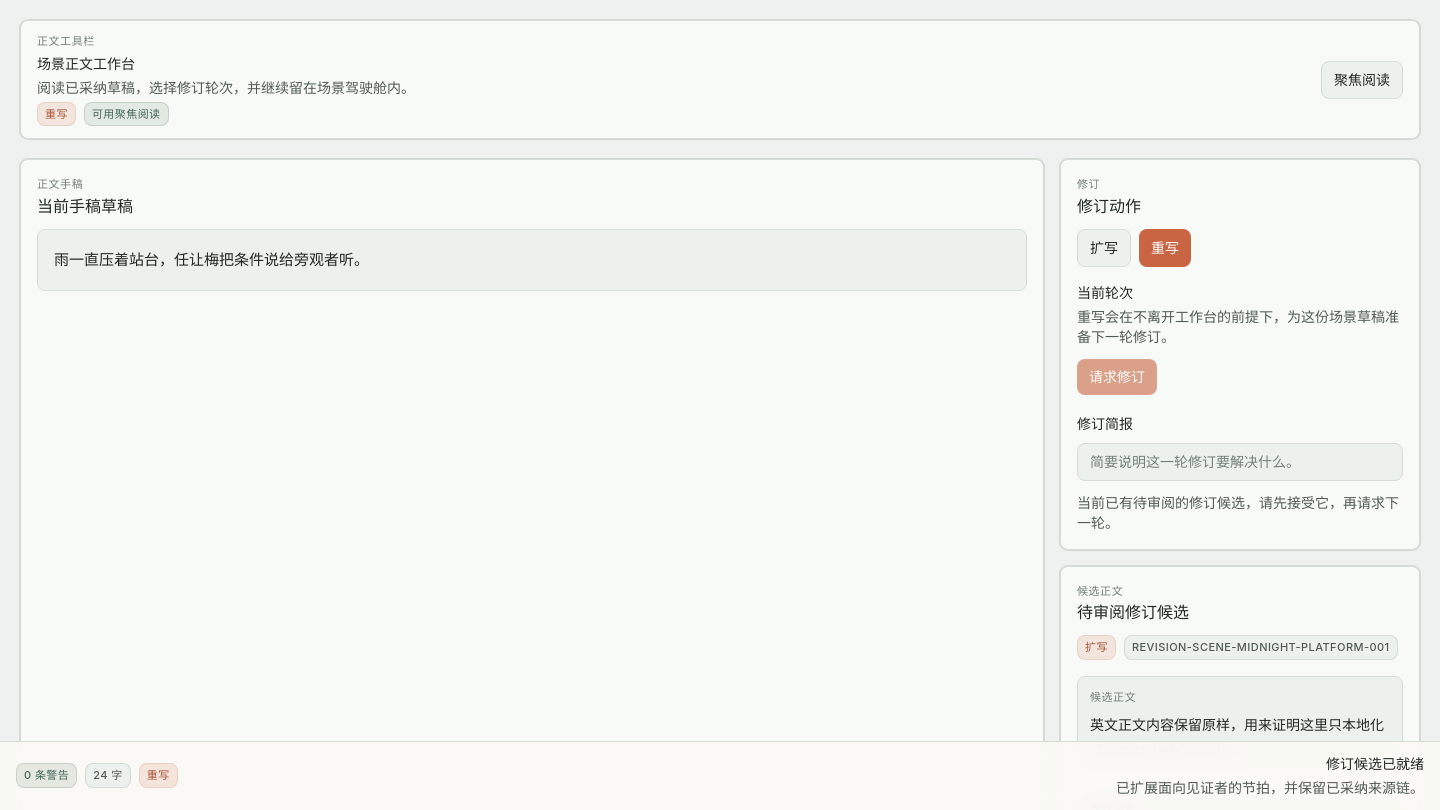
SceneProseContainer › localizes visible prose chrome support copy for zh-CN without changing prose content
The width and height of the screenshot is (1440, 810).
Expected: the text "雨一直压着站台，任让梅把条件说给旁观者听。" is shown, [37,228,1027,290]
Expected: the text "修订候选已就绪" is shown, [1326,755,1424,772]
Click the button "聚焦阅读".
click(1362, 80)  # box [1321,60,1403,98]
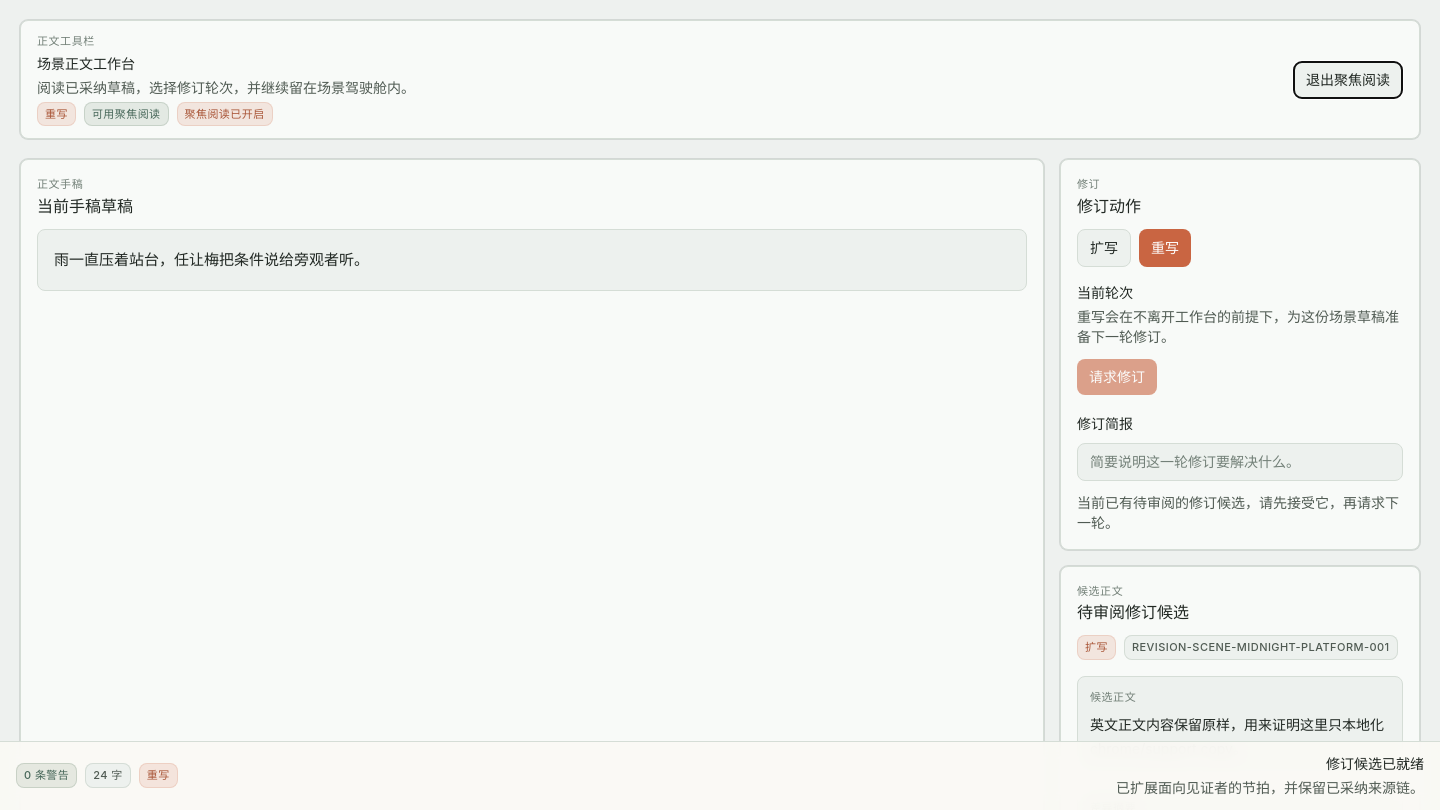
Expected: the text "英文正文内容保留原样，用来证明这里只本地化 chrome/support copy。" is shown, [1090,713,1390,761]
Now the text "聚焦阅读已开启" is shown, box [176,102,273,126]
